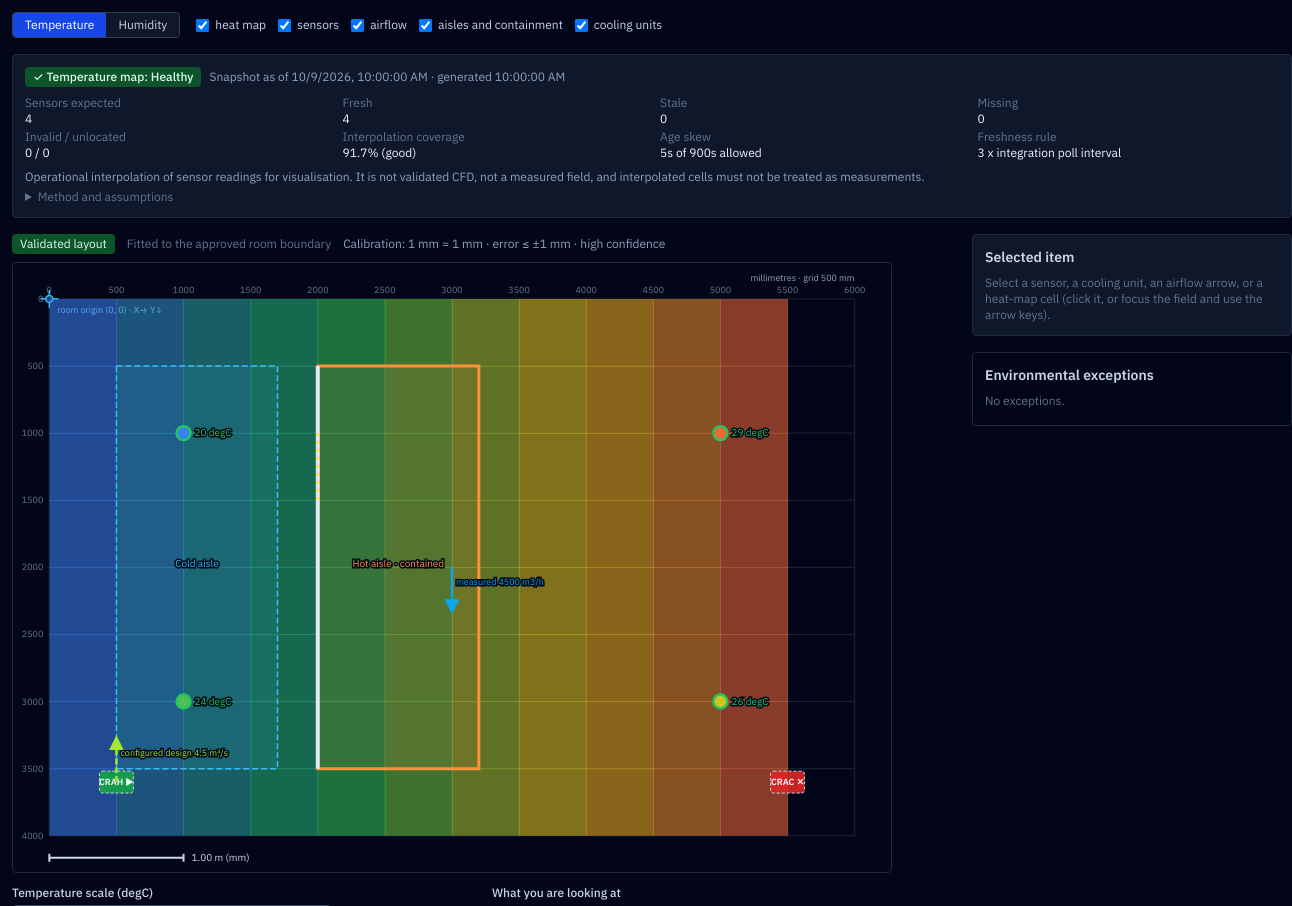
CoolingEnvironmentPanel › switches to the humidity map with its own request and ramp
Expected: the element with test id "heat-cells" is shown, 13,263 -> 890,872
Click the button "Humidity".
click(143, 25)  # box 106,13 -> 179,37
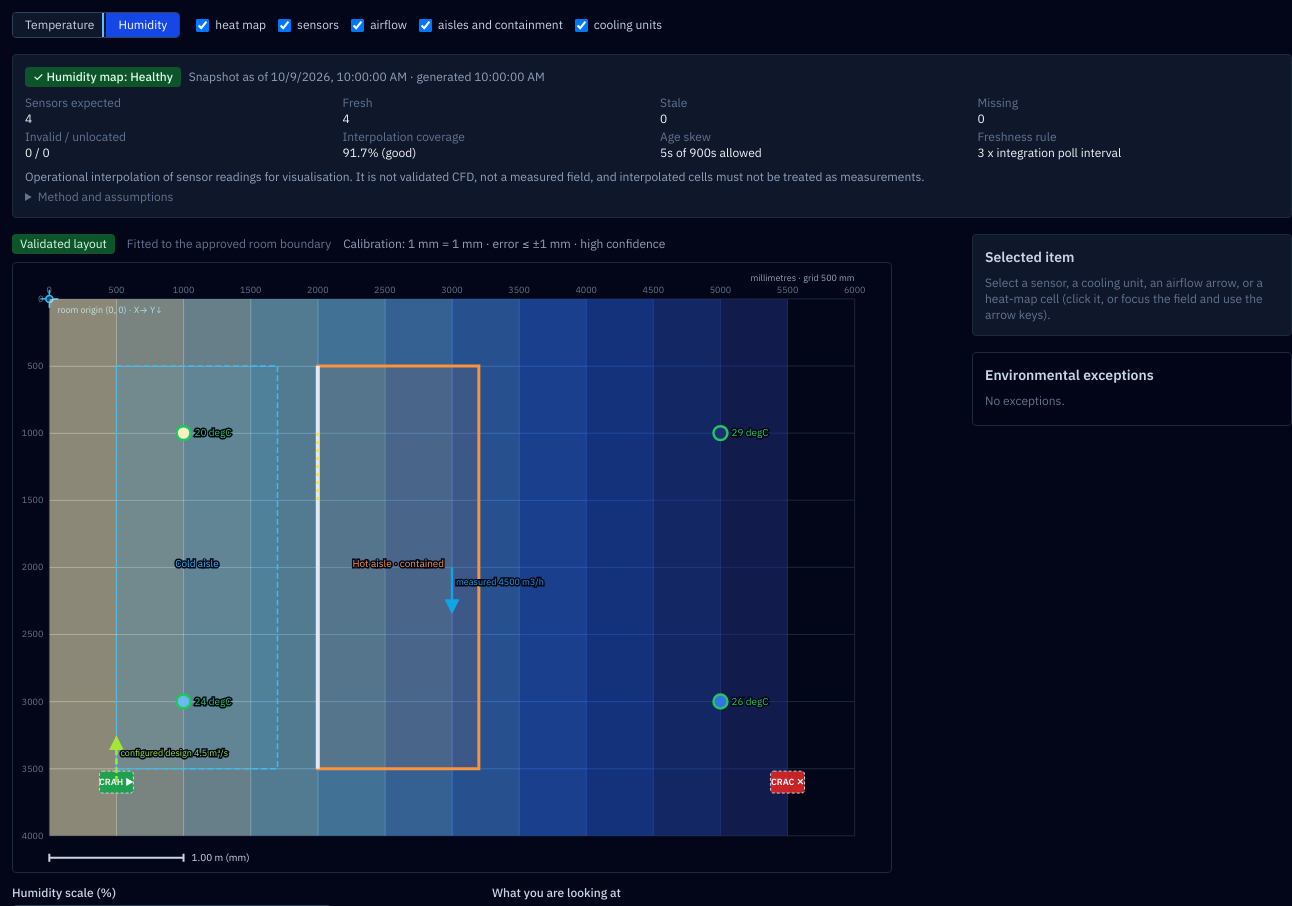
Expected: the text "✓ Humidity map: Healthy" is shown, 25,67 -> 181,87
